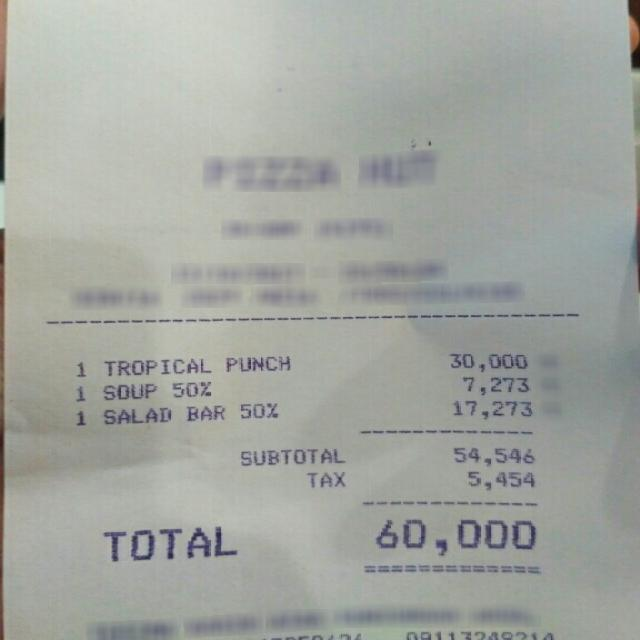kertas: (7, 0, 638, 640)
